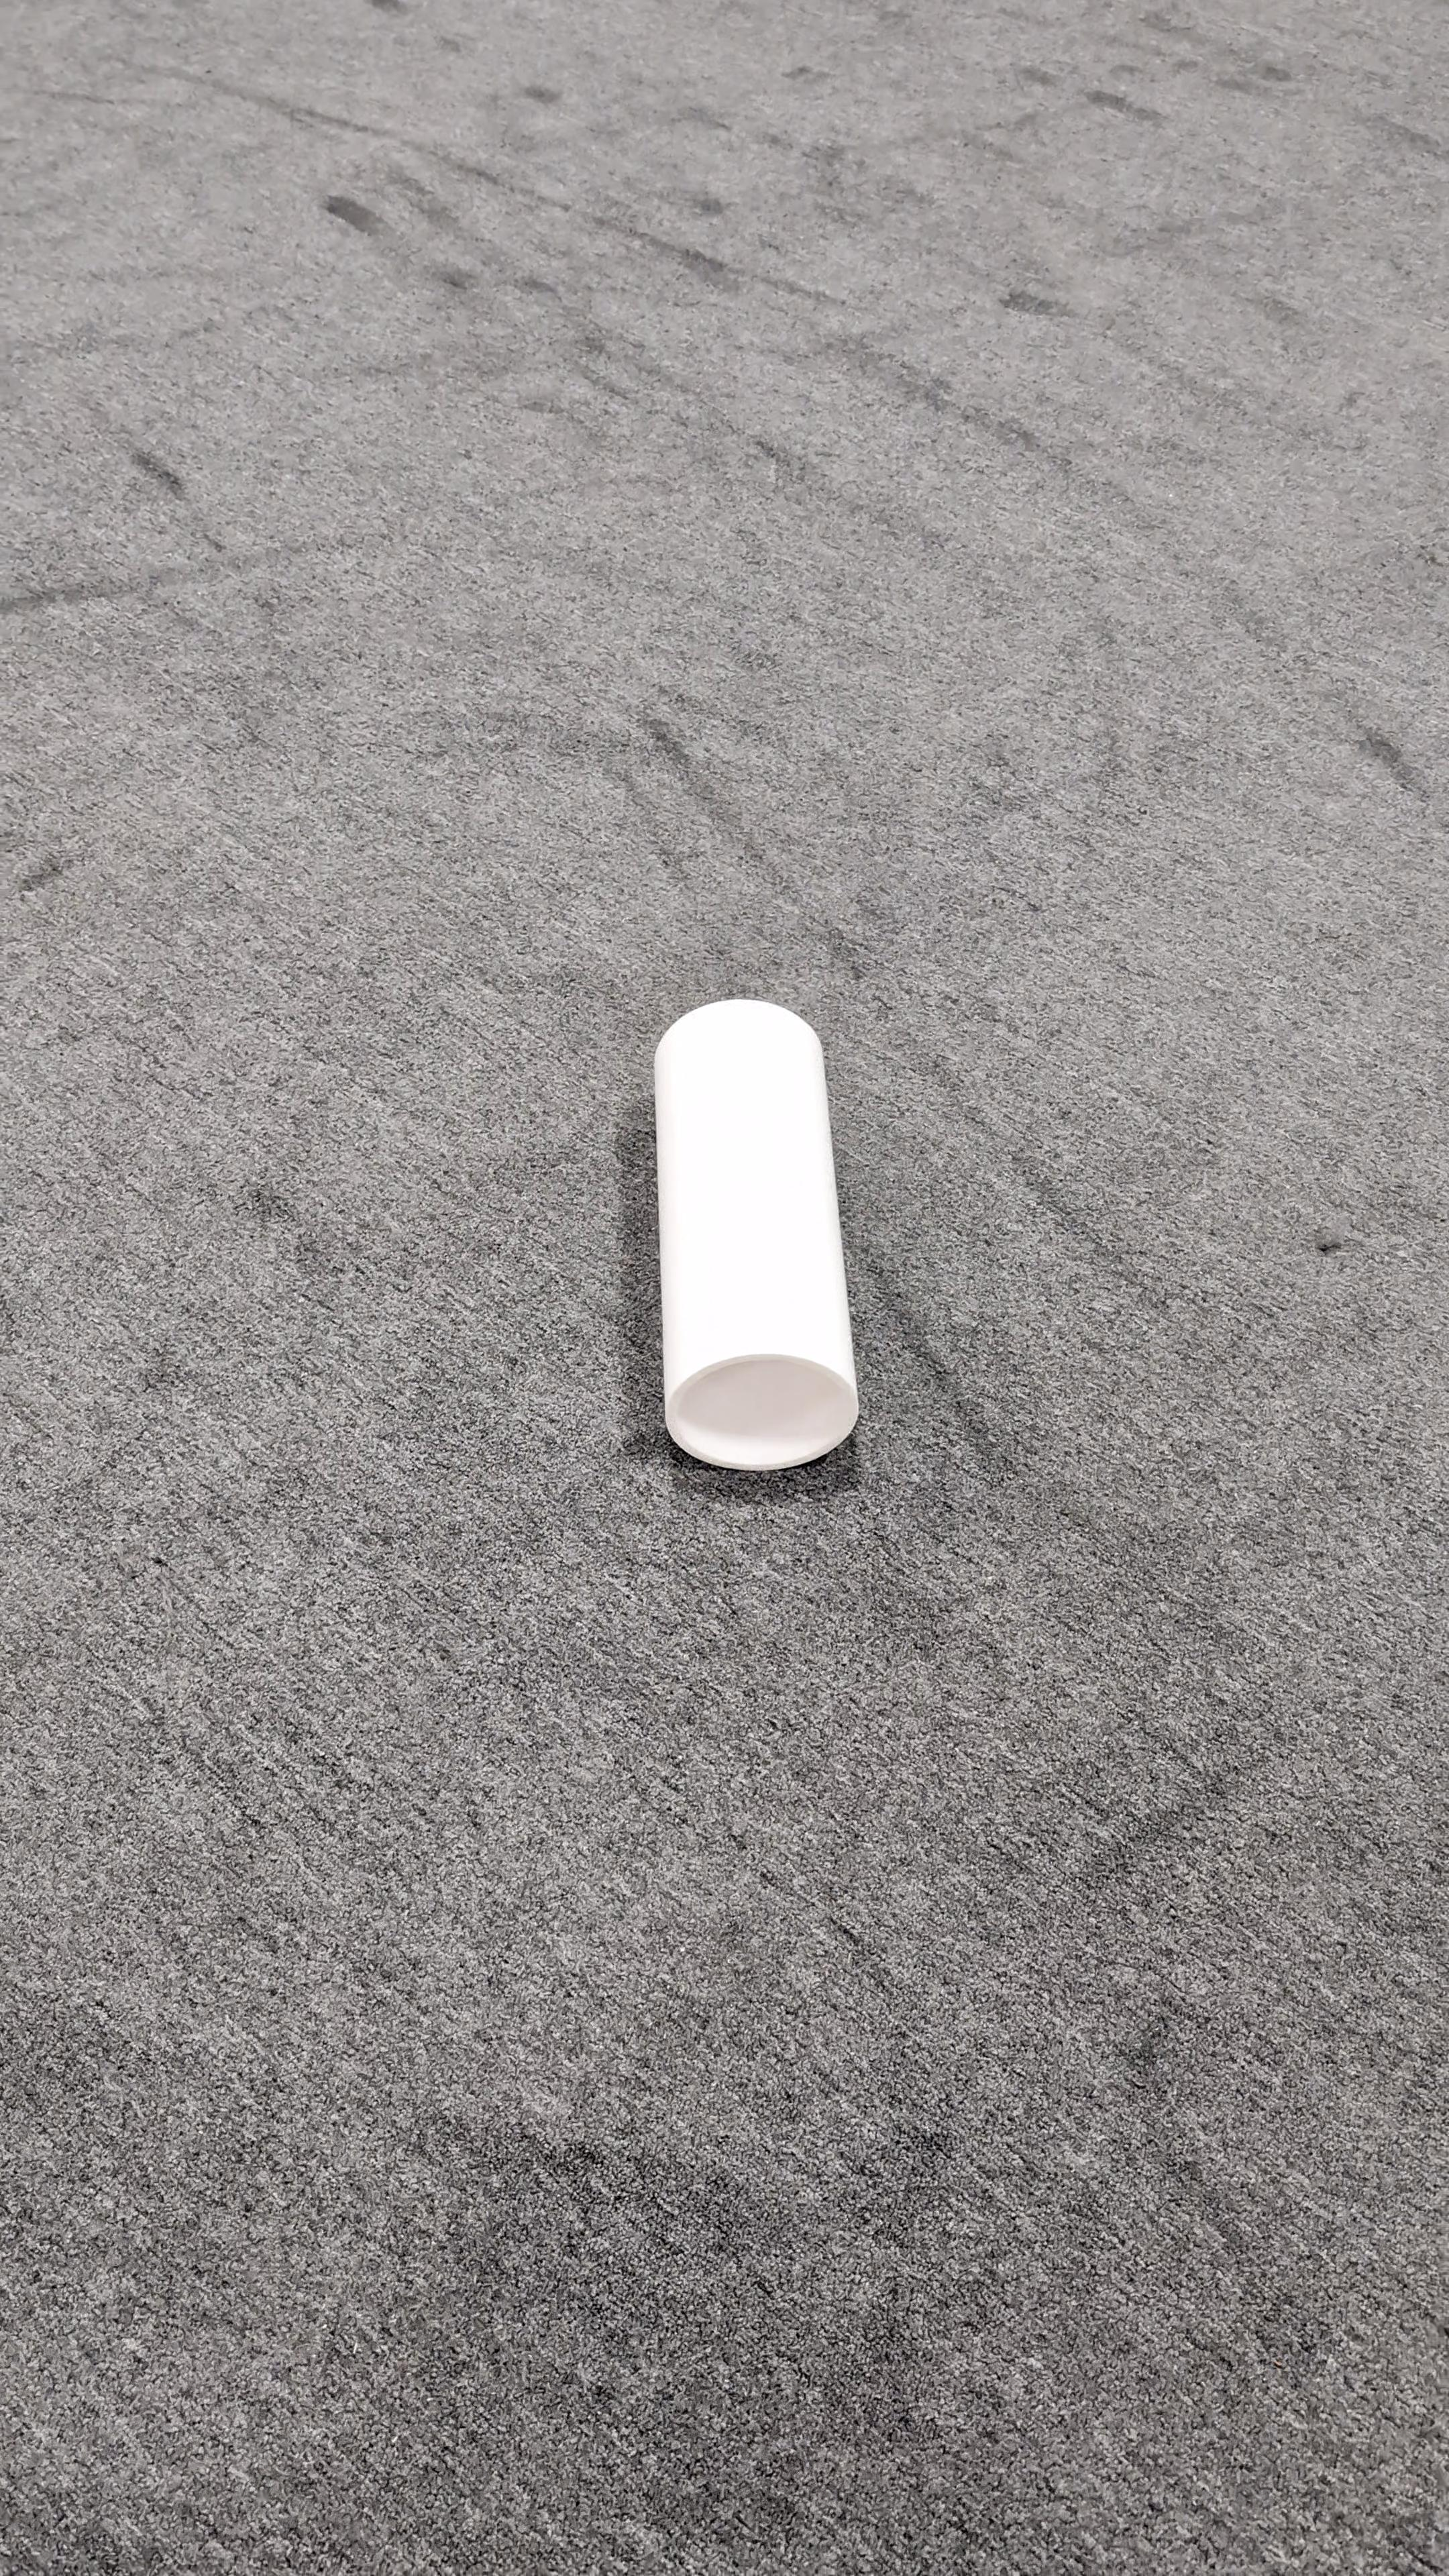coral: (648, 996, 860, 1470)
